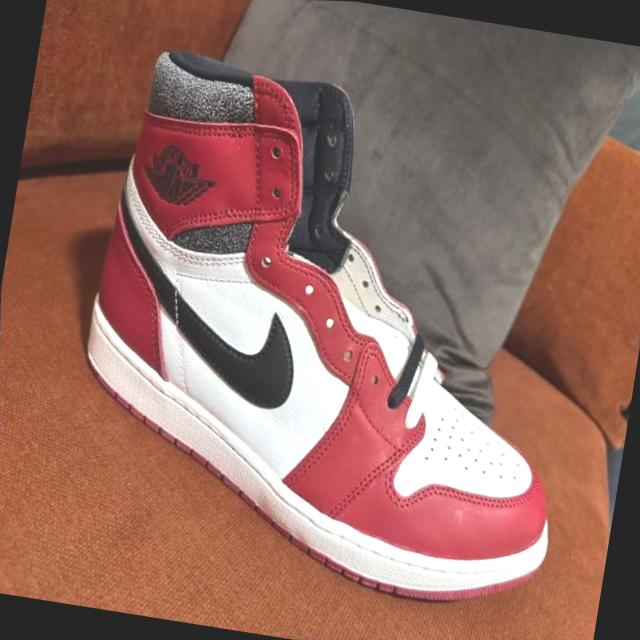nike_original_jordan: (11, 0, 636, 640)
